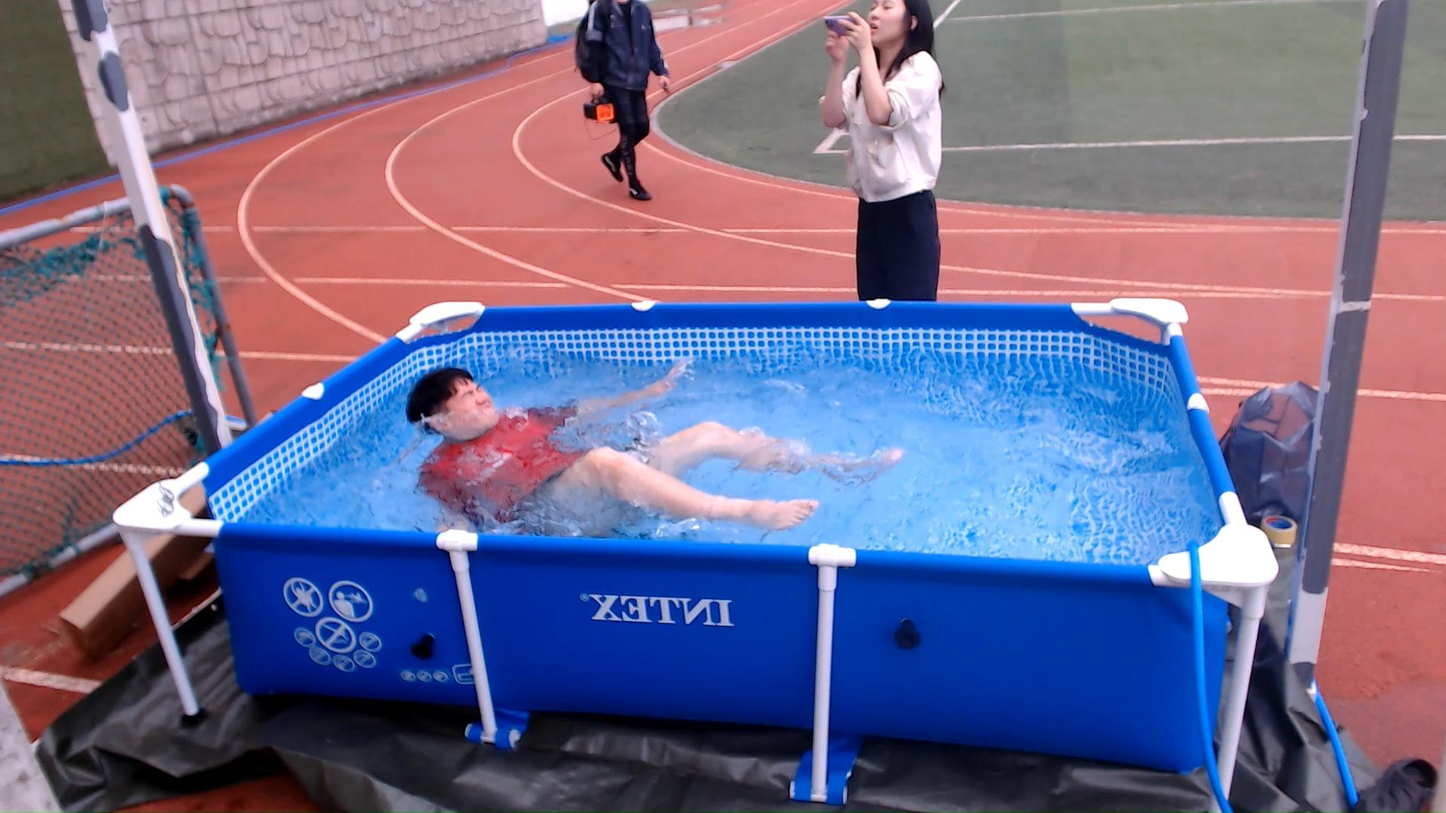Drowning: (387, 324, 978, 581)
Person-out-of-water: (821, 0, 1002, 292), (521, 0, 707, 207)
